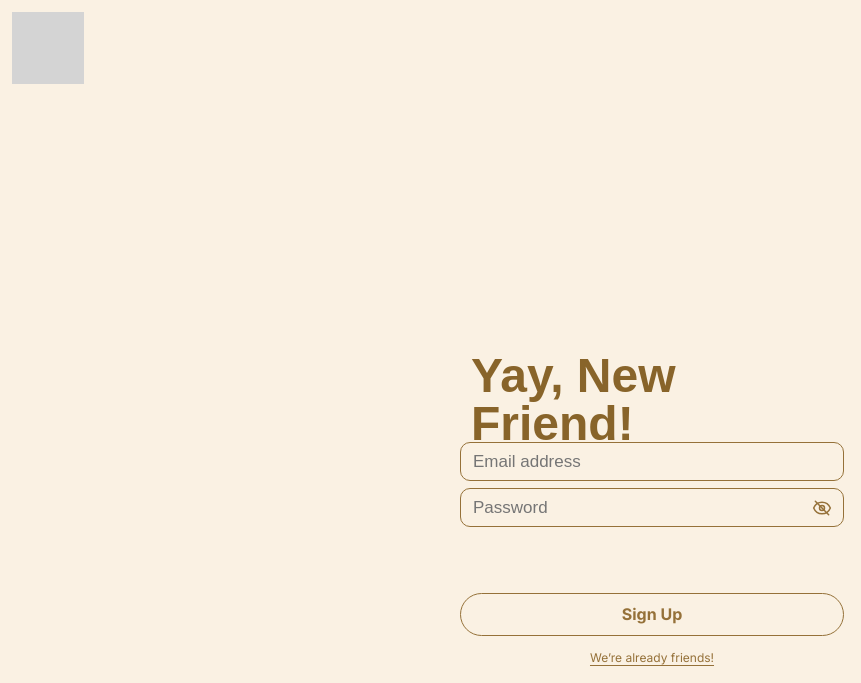
Test: SignUpPage › shows password validation error from backend payload
The width and height of the screenshot is (861, 683).
Type "new@example.com" into the field with placeholder "Email address" at x=652, y=462, box [460,442,844,481]
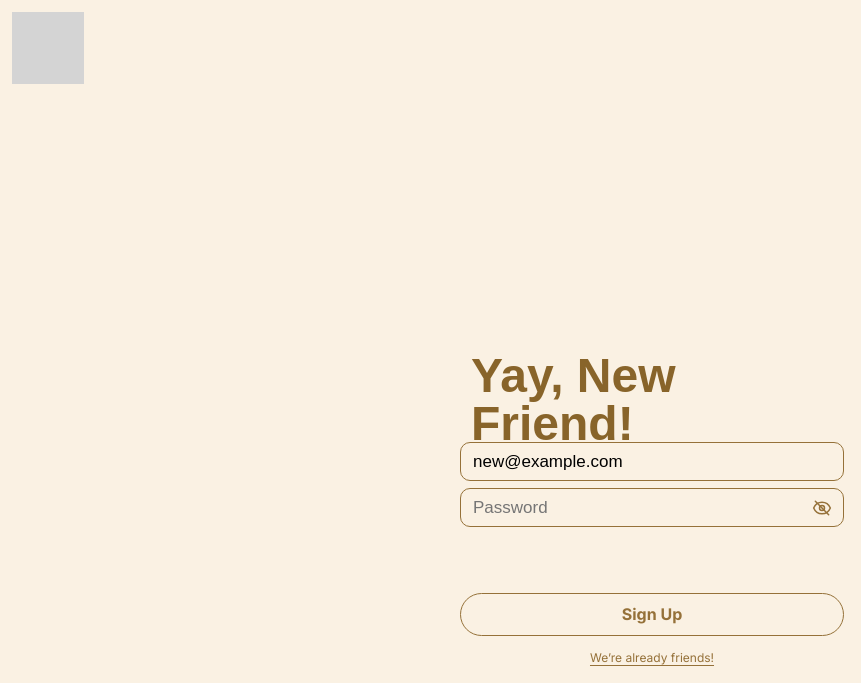
Type "12" into the password field with placeholder "Password" at x=652, y=508, box [460,488,844,527]
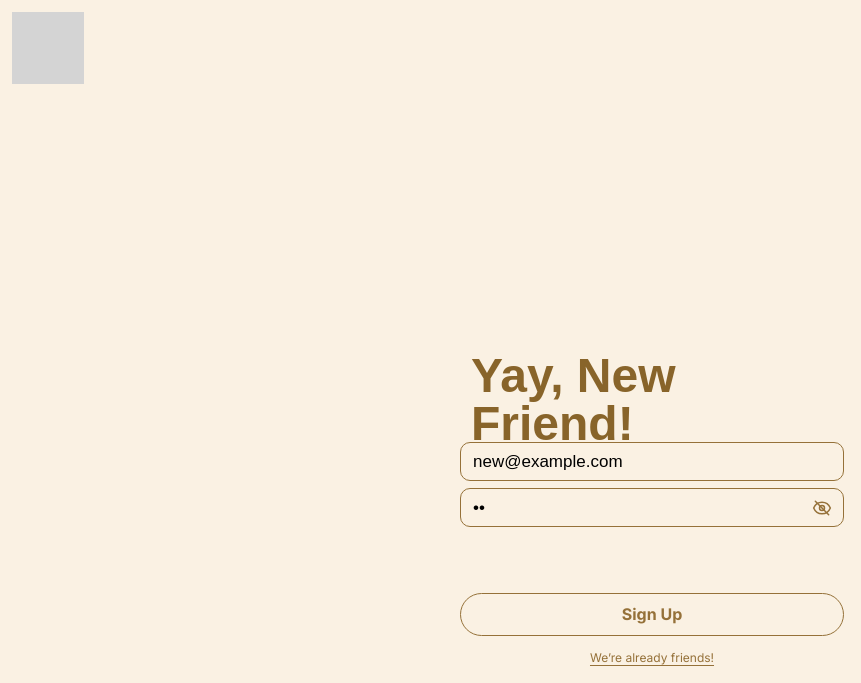
Click the button "Sign Up" at x=652, y=614, box [460,593,844,636]
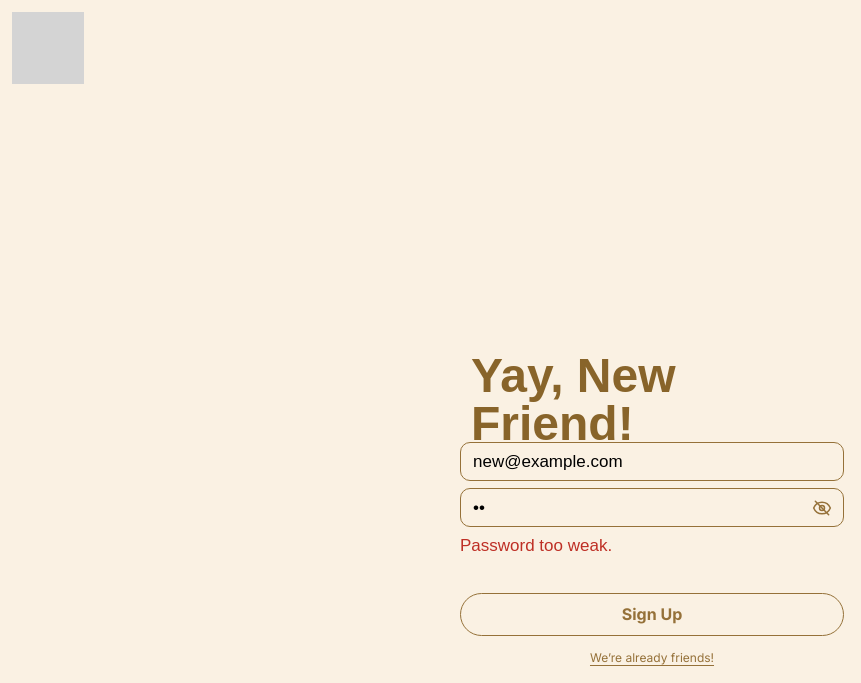
Check: the text "Password too weak." is shown, box [460,536,612,555]
